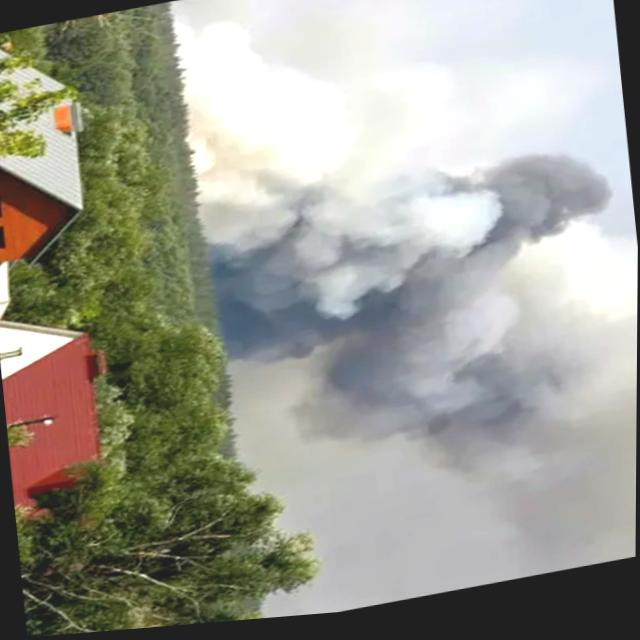no_helmet: (211, 122, 638, 506)
